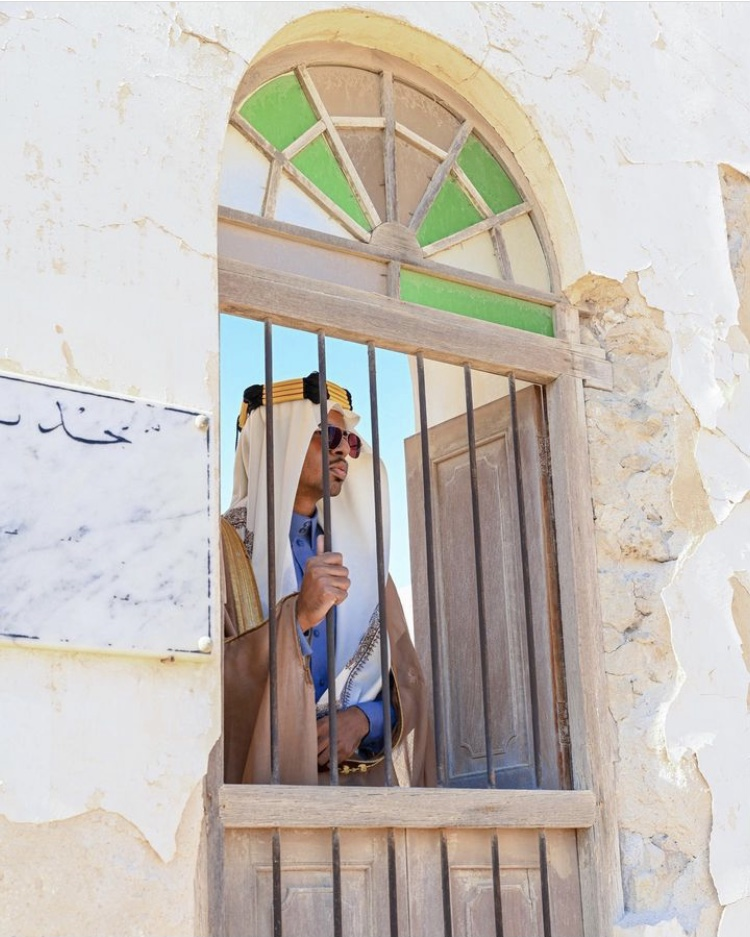Saudi_Founding_Day: (221, 371, 443, 789)
